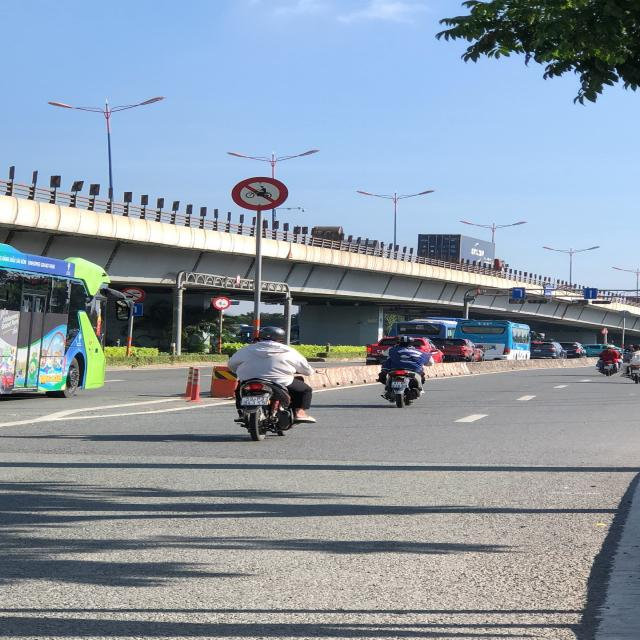Bien bao cam xe may: (230, 174, 290, 212)
